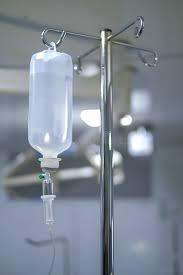Iv_Bottle: (28, 47, 72, 167)
